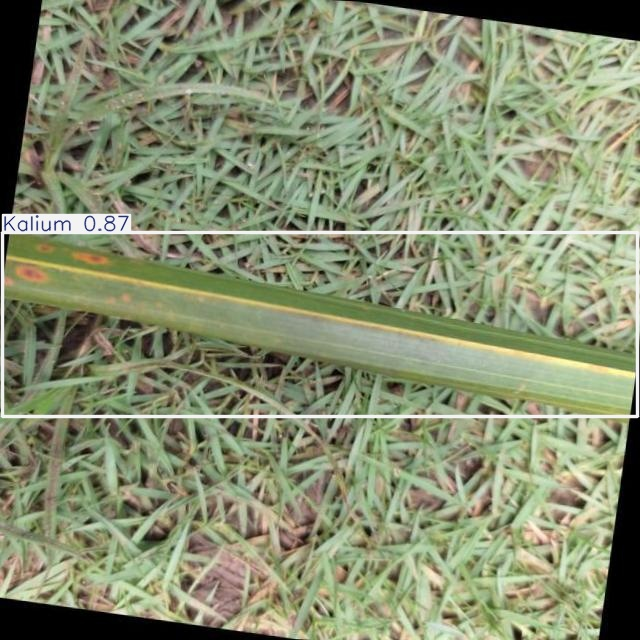Kalium: (3, 232, 637, 416)
